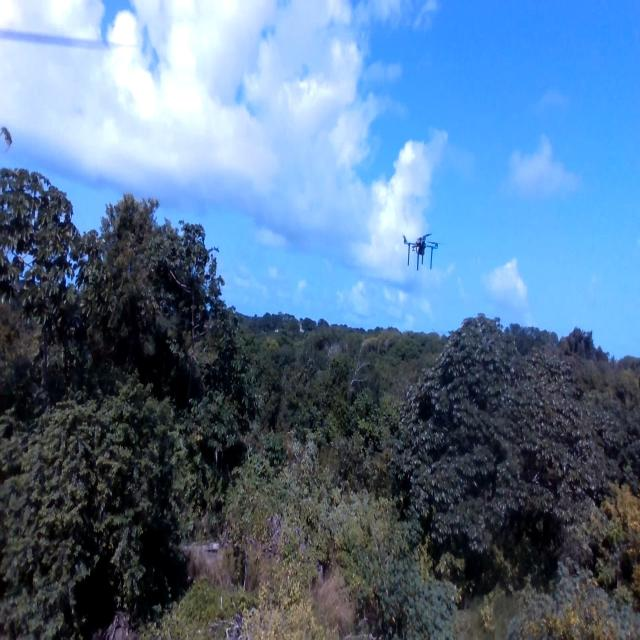-uav-: (398, 217, 446, 275)
